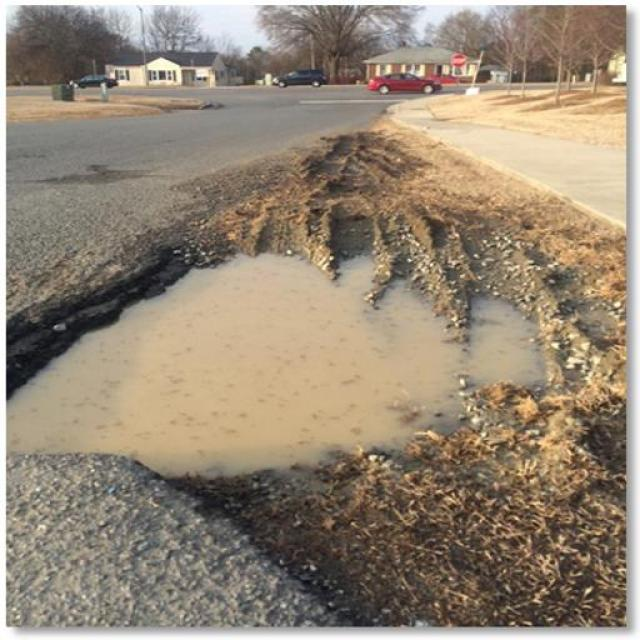puddle: (6, 286, 560, 480), (184, 236, 524, 439)
